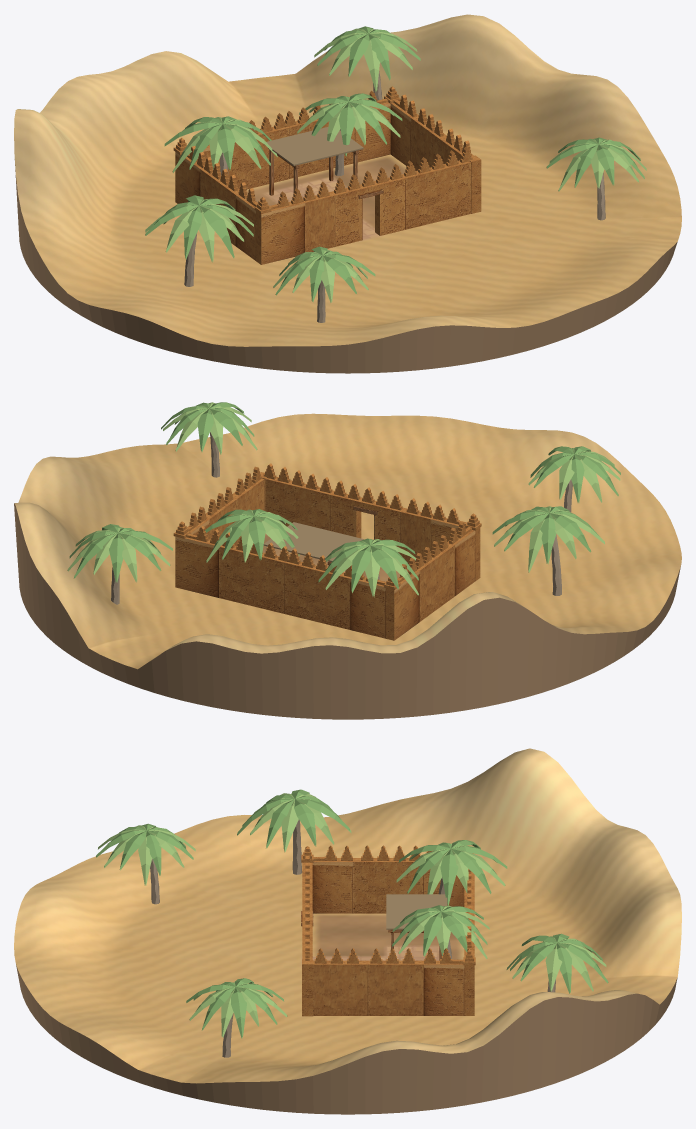
The picture shows the model from 3 angles, top to bottom: view 1: azimuth 30°, elevation 25°; view 2: azimuth 150°, elevation 25°; view 3: azimuth 270°, elevation 25°; orthographic projection.
Parts seen in each view (by area): view 1: Ground, Plinth, Wall.002, WallDoor.001, CornerA.001, ArishRoof, Wall.003, Wall.001, Wall.007, CornerA.003, CornerB.003, CornerA.002 (+5 smaller); view 2: Ground, Plinth, Wall.003, Wall.004, Wall.002, CornerA.003, WallDoor.001, Wall.005, CornerB.002, CornerA.002, ArishRoof, Wall.001 (+8 smaller); view 3: Ground, Plinth, Wall.007, Wall.006, Wall.005, CornerB.003, CornerB.001, ArishRoof, CornerFill, CornerA.003, frond.027.
Part boxes in pixels (x1,y1,x2,y2): Ground: (14,14,681,346); Plinth: (14,159,677,373); Wall.002: (402,160,470,229); WallDoor.001: (331,176,405,246); CornerA.001: (256,201,304,264); ArishRoof: (264,126,363,165); Wall.003: (228,126,289,189); Wall.001: (303,192,335,251); Wall.007: (411,116,446,170); CornerA.003: (355,102,390,162); CornerB.003: (390,103,418,165); CornerA.002: (175,152,202,203); Ground: (14,413,681,669); Plinth: (14,503,680,719); Wall.003: (284,561,351,629); Wall.004: (219,545,285,613); Wall.002: (265,477,333,530); CornerA.003: (175,536,218,597); WallDoor.001: (330,492,405,554); Wall.005: (417,543,454,621); CornerB.002: (350,577,385,638); CornerA.002: (385,570,419,640); ArishRoof: (263,522,363,561); Wall.001: (400,508,432,563); Ground: (14,748,681,1083); Plinth: (16,964,677,1114); Wall.007: (368,960,423,1015); Wall.006: (313,960,368,1015); Wall.005: (353,858,423,913); CornerB.003: (424,960,464,1015); CornerB.001: (312,858,352,913); ArishRoof: (386,894,447,929); CornerFill: (302,959,313,1016); CornerA.003: (464,943,474,1015); frond.027: (440,849,458,905).
Bounding box in the file's own units: 33 × 5.97 × 33.
Materials: 19 (13 with a texture image).
